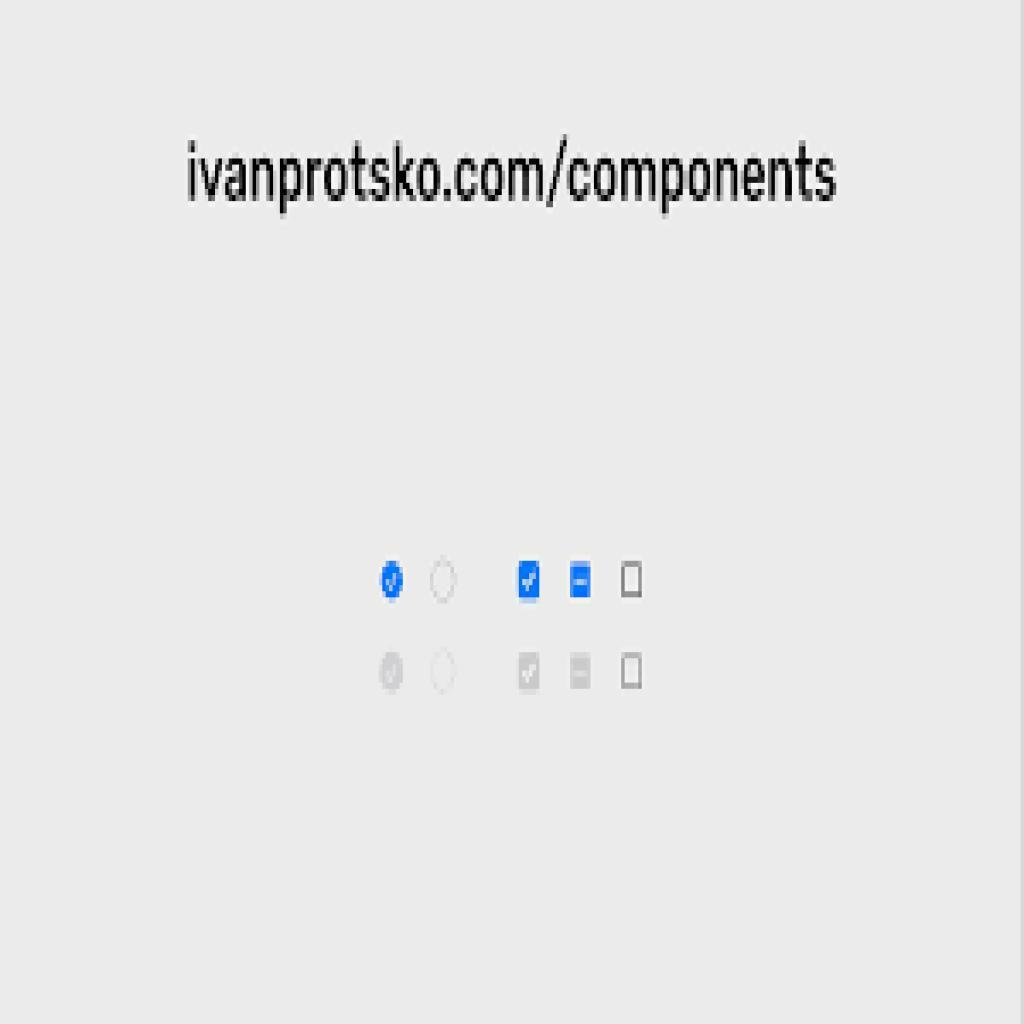checkbox: (517, 562, 541, 605), (517, 654, 541, 694), (570, 561, 592, 598), (622, 654, 644, 690), (571, 653, 591, 692), (621, 562, 642, 597)
radio: (430, 554, 460, 605), (429, 649, 461, 696), (377, 653, 407, 695), (380, 560, 406, 605)
